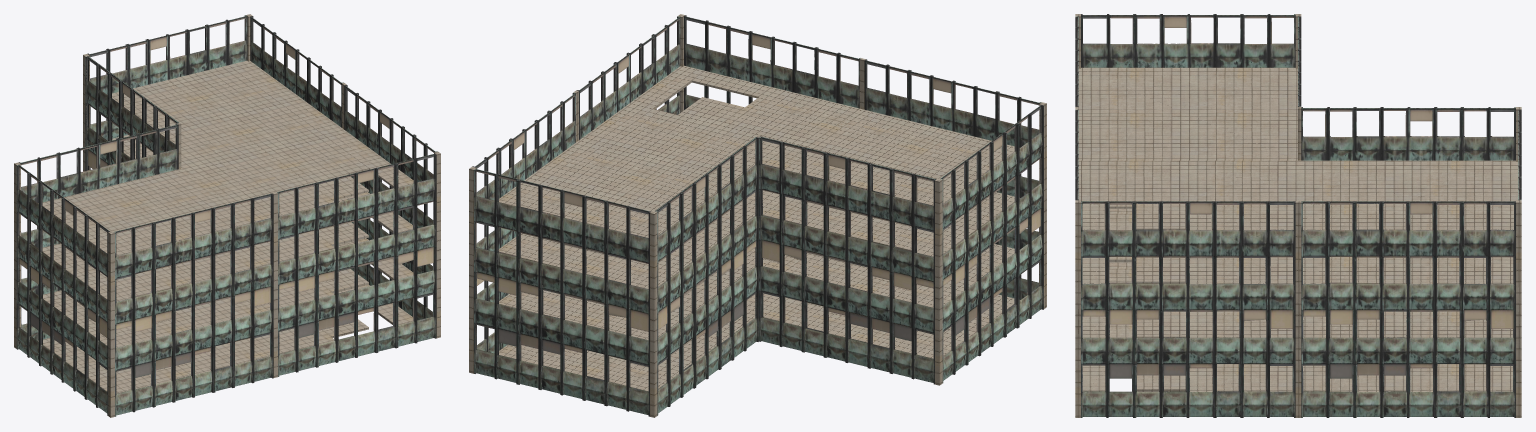
The model's file is BagSS09mid_500.fbx.
3 views of the same model, side by side, from view 1: azimuth 30°, elevation 25°; view 2: azimuth 150°, elevation 25°; view 3: azimuth 270°, elevation 25° (orthographic). The views are drawn at different scales.
Parts seen in each view (by area): view 1: midMain500, midCrete500; view 2: midMain500, midCrete500; view 3: midMain500, midCrete500.
Boxes of the visible parts, bbox=[...] form: midMain500: bbox=[16, 15, 437, 416]; midCrete500: bbox=[14, 14, 440, 417]; midMain500: bbox=[472, 15, 1043, 416]; midCrete500: bbox=[469, 14, 1046, 417]; midMain500: bbox=[1075, 14, 1521, 417]; midCrete500: bbox=[1075, 14, 1521, 417].
Size of the model in its own units: 40.92 by 21.77 by 40.92.
